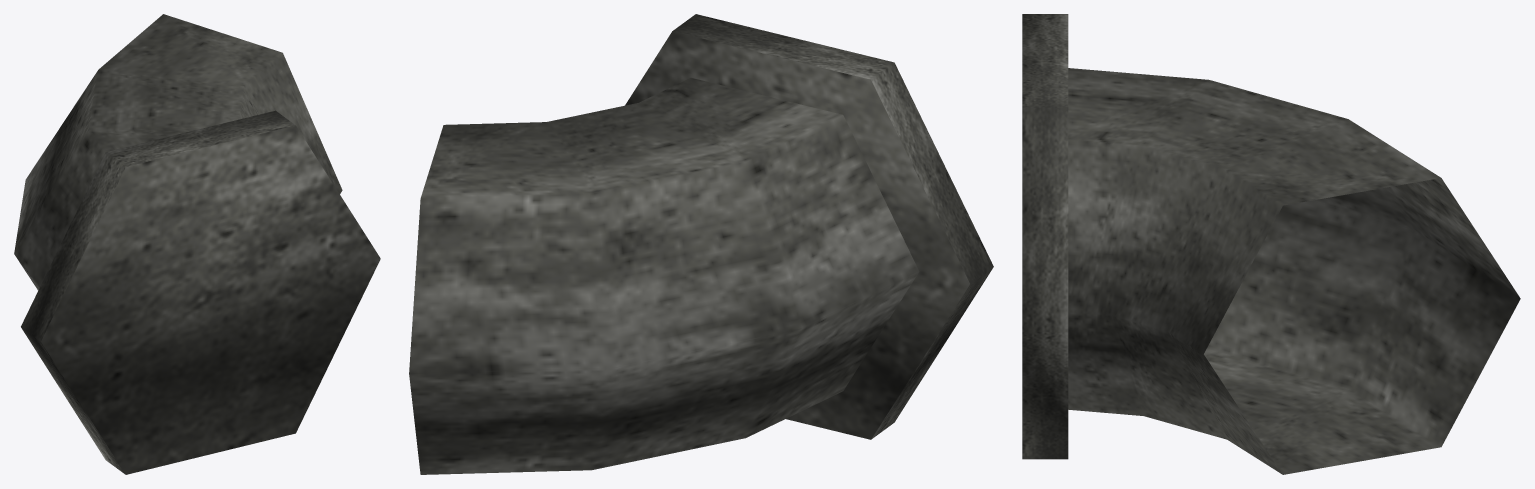
The model's file is large_metal_2_elbow_hz_67-5.fbx.
3 views of the same model, side by side, from view 1: azimuth 30°, elevation 25°; view 2: azimuth 150°, elevation 25°; view 3: azimuth 270°, elevation 25° (orthographic). The views are drawn at different scales.
Visible parts, largest first — view 1: polySurface673; view 2: polySurface673; view 3: polySurface673.
Part boxes in pixels (left/top/right/bottom): polySurface673: left=14, top=14, right=380, bottom=474; polySurface673: left=409, top=14, right=993, bottom=474; polySurface673: left=1022, top=14, right=1520, bottom=474.
Size of the model in its own units: 1.46 by 1.13 by 1.45.
